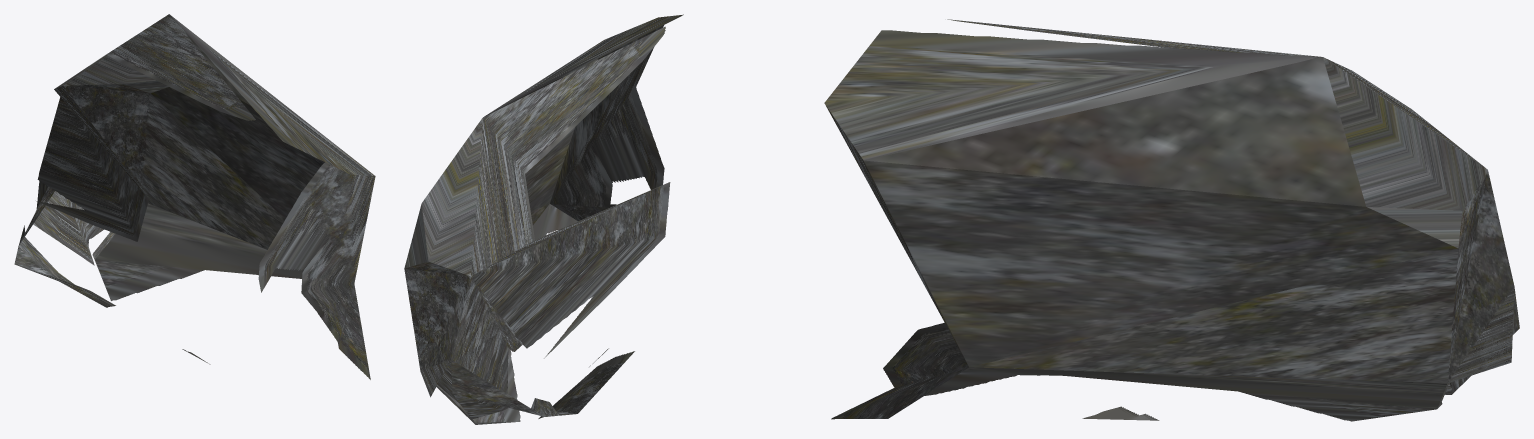
Rendered from rock1_horizontal.fbx.
3 views of the same model, side by side, from view 1: azimuth 30°, elevation 25°; view 2: azimuth 150°, elevation 25°; view 3: azimuth 270°, elevation 25° (orthographic). The views are drawn at different scales.
Visible parts, largest first — view 1: Cube.003; view 2: Cube.003; view 3: Cube.003.
Part boxes in pixels (x1,y1,x2,y2): Cube.003: (14,14,375,379); Cube.003: (404,14,683,424); Cube.003: (824,19,1519,421).
Bounding box in the file's own units: 687 × 989 × 1607.
